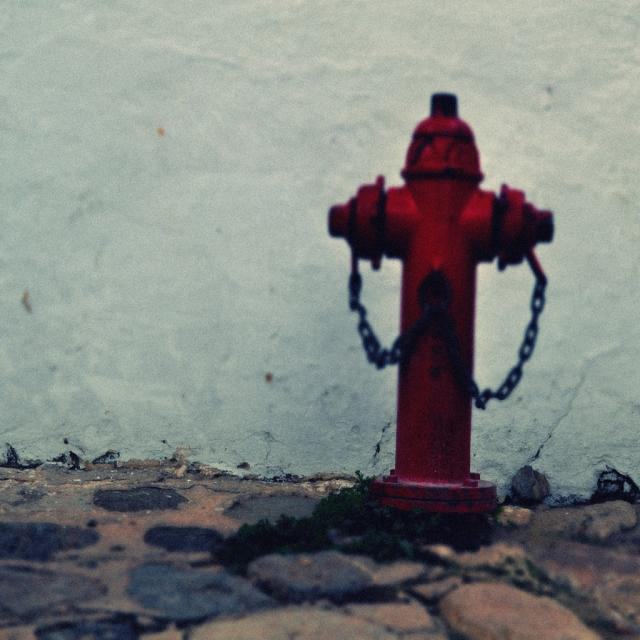fire_hydrant: (329, 94, 554, 510)
